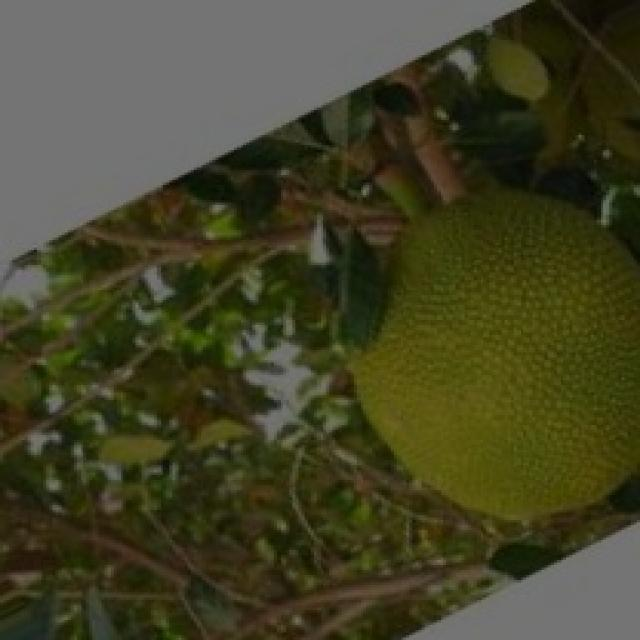Fruit: (317, 165, 640, 545)
